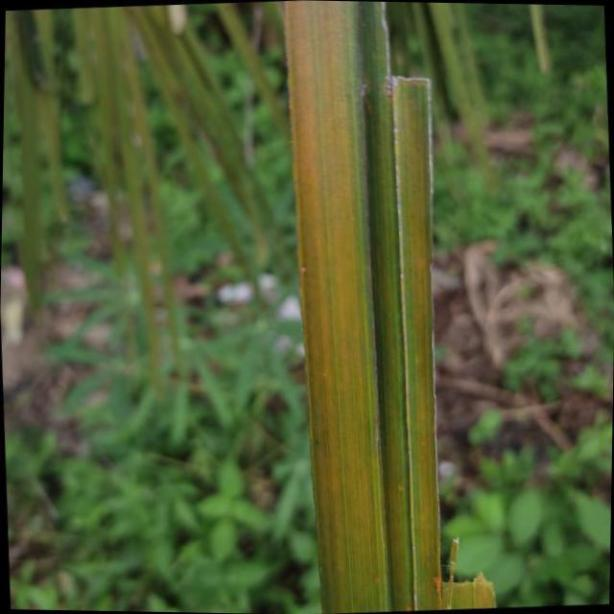Megnesium: (282, 0, 500, 614)
